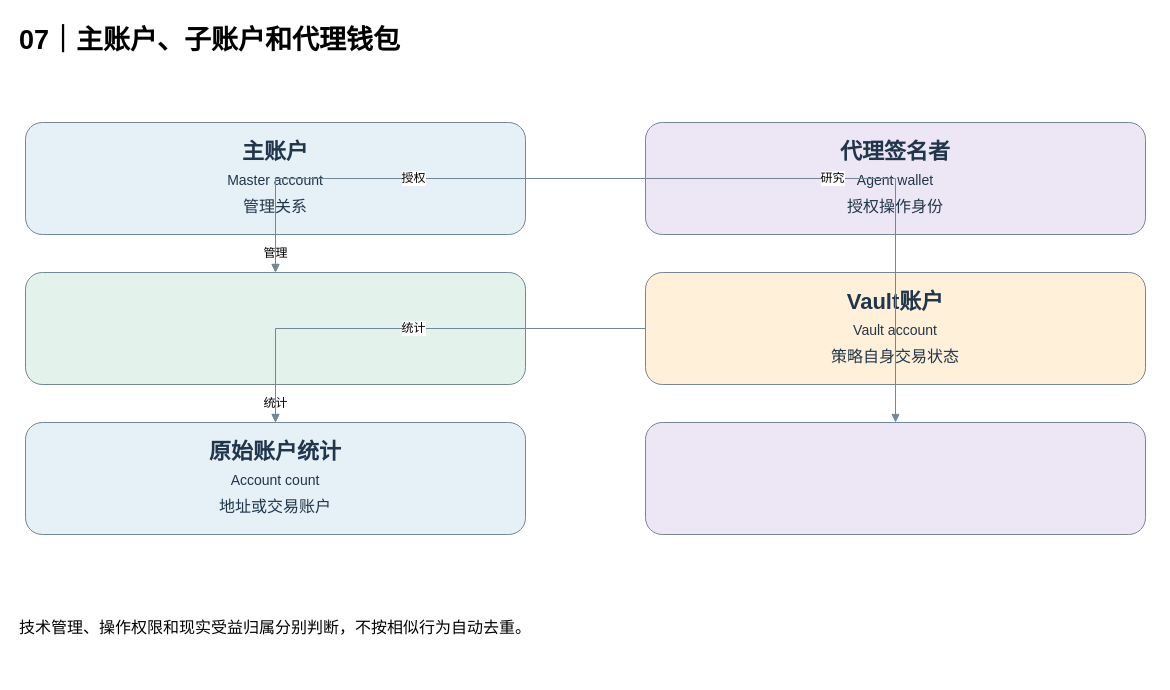
Some shapes in this 1170 by 690 pixel diagram are drawn without their labels. The shapes that lost their labels are listed below. From the top down, each one's centre as x and y in pixels, then its label:
At (x=275, y=328): "子账户 Subaccount 独立交易与风险状态".
At (x=895, y=478): "有依据的集合 Attributed group 关系、来源与有效期".
